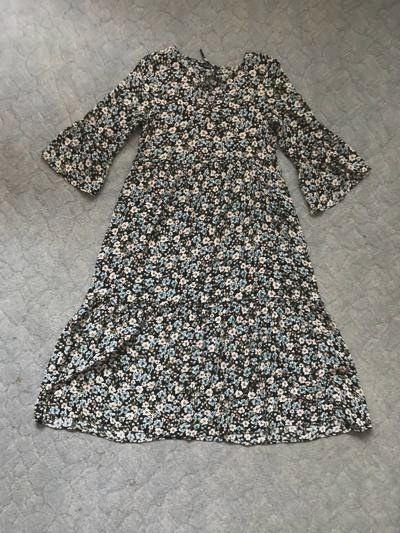Dress: (21, 25, 392, 453)
